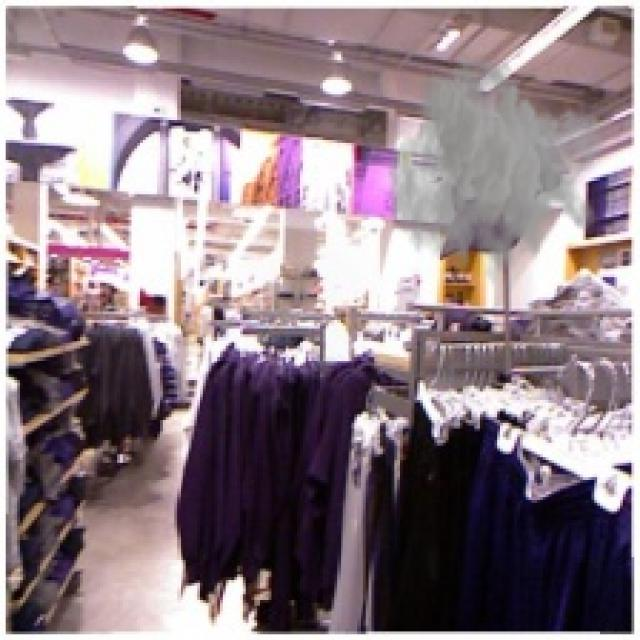smoke: (386, 49, 606, 294)
